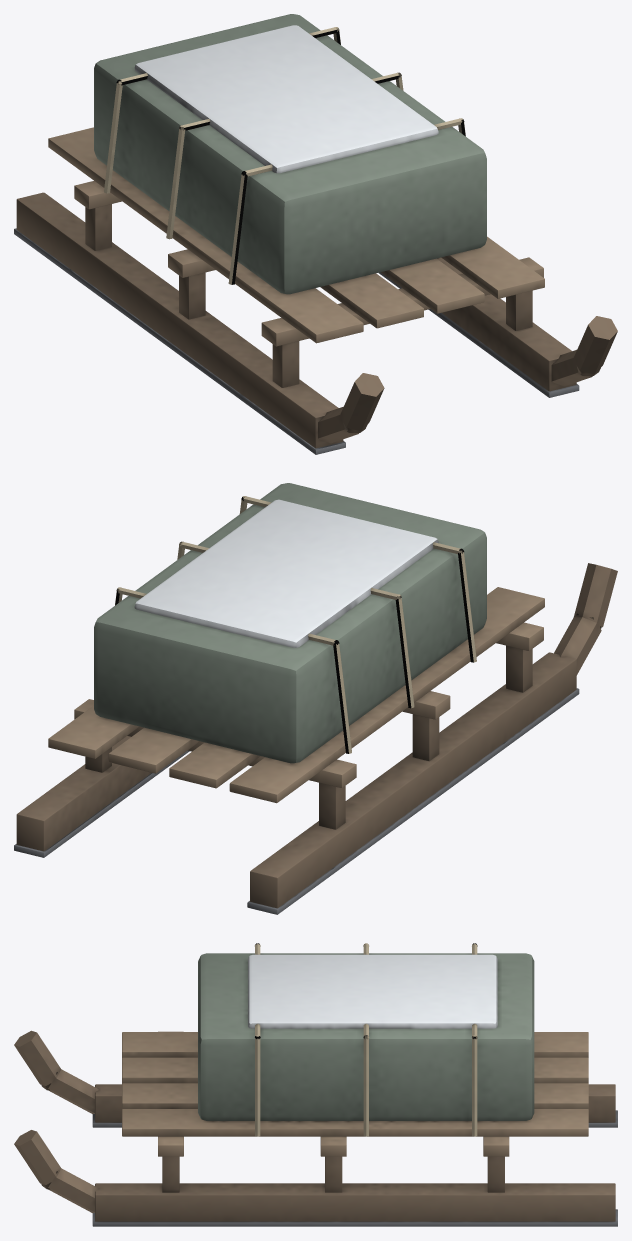
Rendered from surveyor_sledge.glb.
The picture shows the model from 3 angles, top to bottom: view 1: azimuth 30°, elevation 25°; view 2: azimuth 150°, elevation 25°; view 3: azimuth 270°, elevation 25°; orthographic projection. The views are drawn at different scales.
Parts seen in each view (by area): view 1: surveyor_sledge; view 2: surveyor_sledge; view 3: surveyor_sledge.
Part boxes in pixels (bbox=[...]): surveyor_sledge: bbox=[14, 14, 617, 454]; surveyor_sledge: bbox=[14, 483, 617, 914]; surveyor_sledge: bbox=[14, 943, 617, 1226].
Bounding box in the file's own units: 1.24 × 0.93 × 2.78.
1 material, 1 textured.
